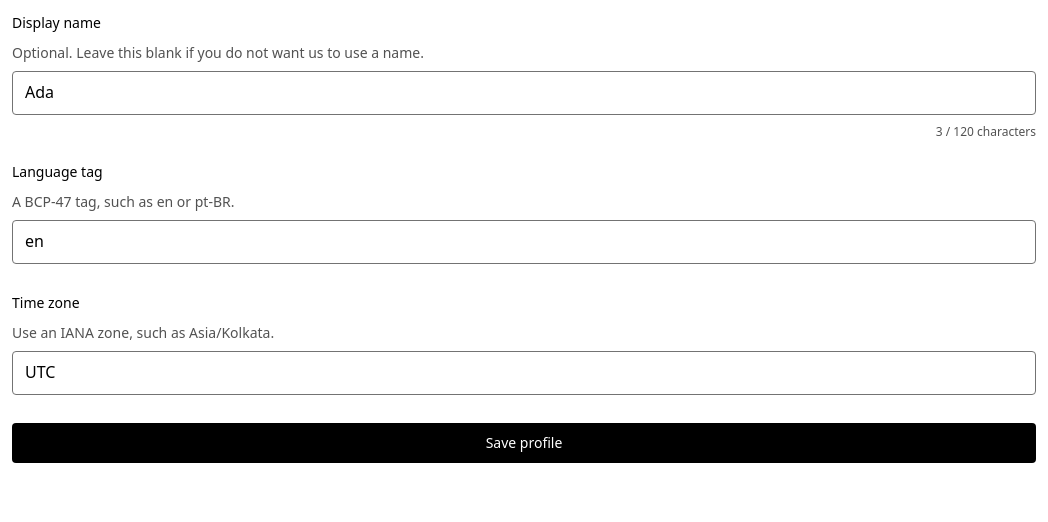
Test: ProfileForm › patches a normalised account edit and refreshes server data
Replace the text in the field labelled "Display name" with "  Grace  " at x=524, y=93, box [12,71,1036,115]
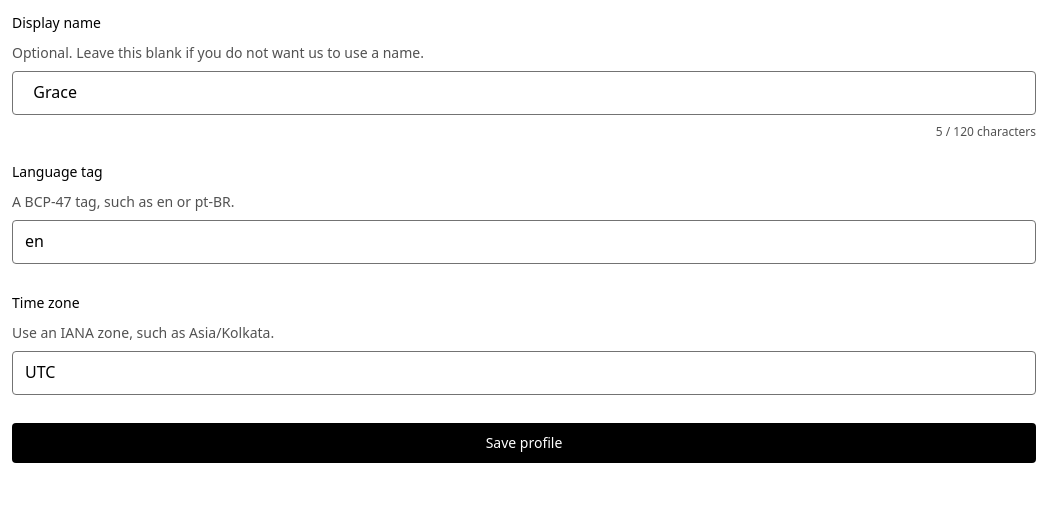
Replace the text in the field labelled "Language tag" with "pt-BR" at x=524, y=242, box [12,220,1036,264]
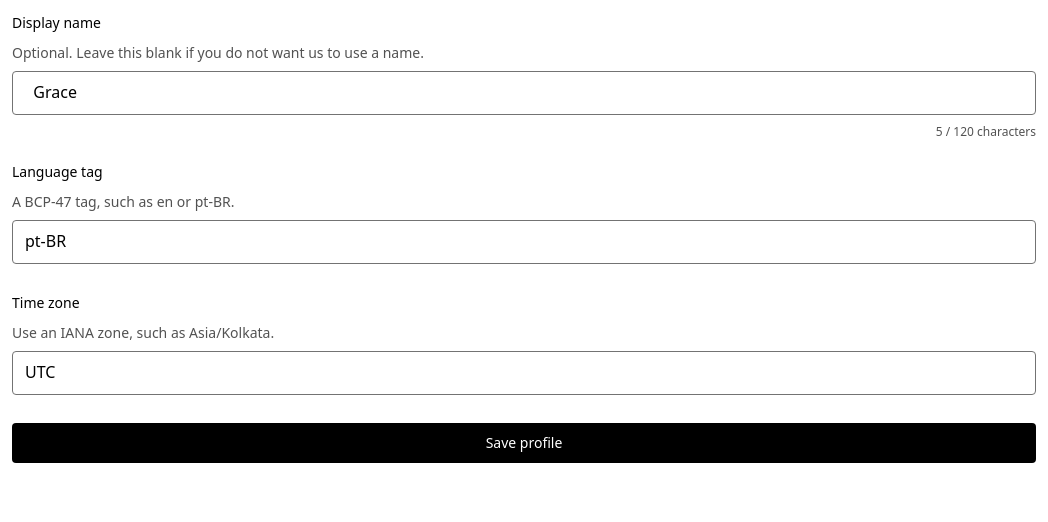
Click the button "Save profile" at x=524, y=443, box [12,423,1036,463]
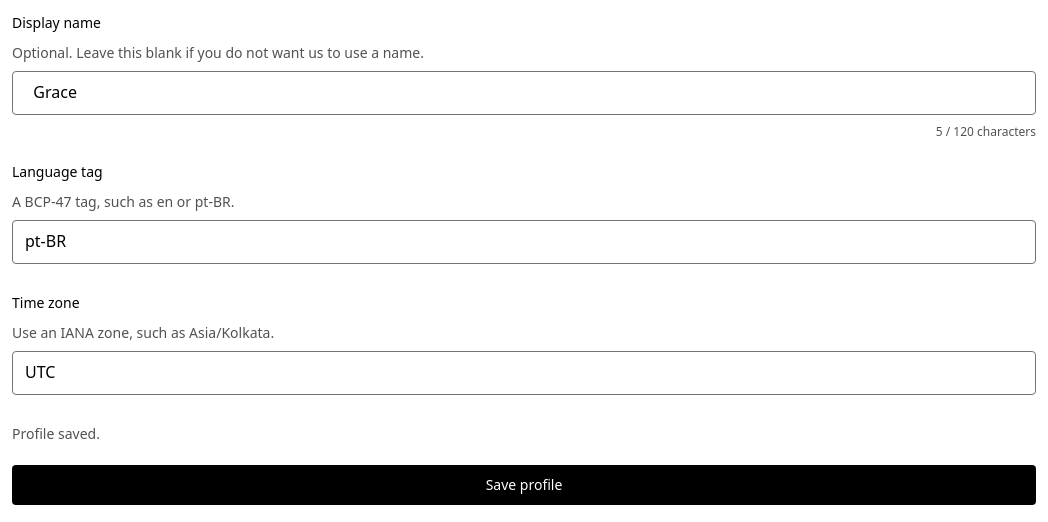
expect the message reads "Profile saved.": met, box [12,424,100,443]
